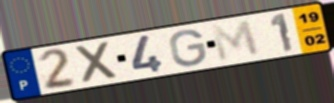1: (269, 11, 296, 54)
2: (36, 47, 78, 93)
4: (130, 33, 168, 74)
G: (168, 28, 209, 68)
M: (208, 18, 263, 64)
X: (72, 39, 121, 86)
